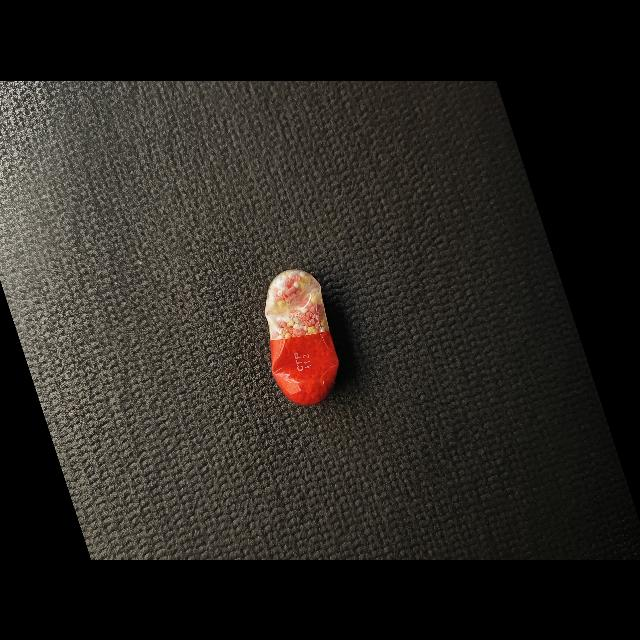Defective Capsule: (265, 269, 339, 405)
